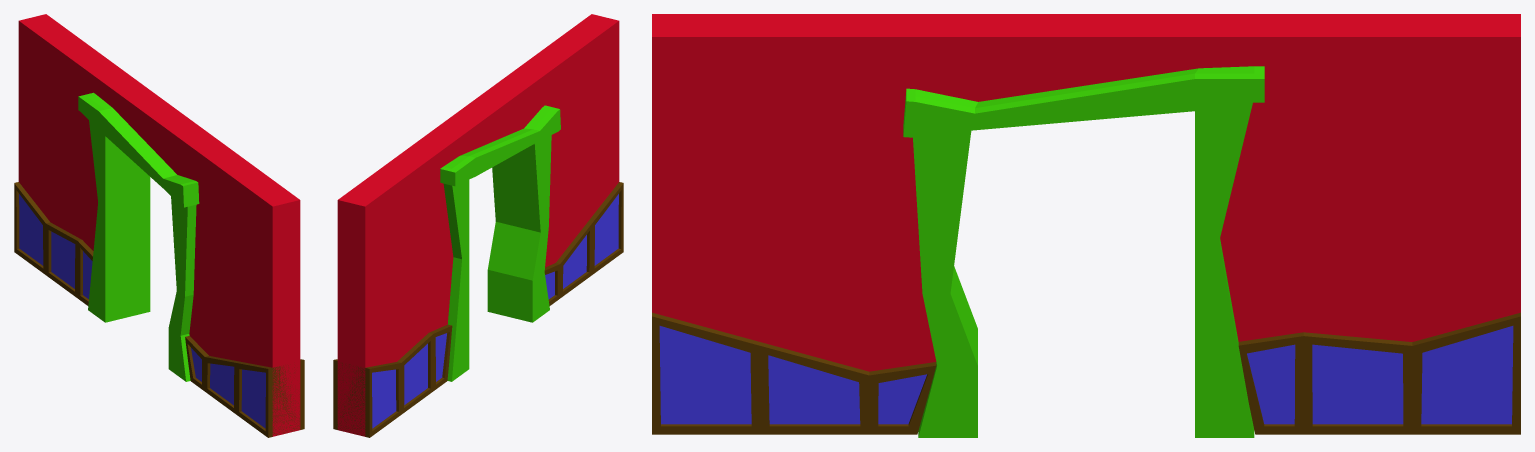
File: SM_DoorWall_Test_Collider.fbx
3 views of the same model, side by side, from view 1: azimuth 30°, elevation 25°; view 2: azimuth 150°, elevation 25°; view 3: azimuth 270°, elevation 25° (orthographic). The views are drawn at different scales.
Visible parts, largest first — view 1: SM_WallDoor_Test_Collider; view 2: SM_WallDoor_Test_Collider; view 3: SM_WallDoor_Test_Collider.
Part boxes in pixels (x1,y1,x2,y2): SM_WallDoor_Test_Collider: (14, 14, 304, 437); SM_WallDoor_Test_Collider: (333, 14, 623, 437); SM_WallDoor_Test_Collider: (652, 14, 1520, 437).
Bounding box in the file's own units: 106 × 400 × 800.
